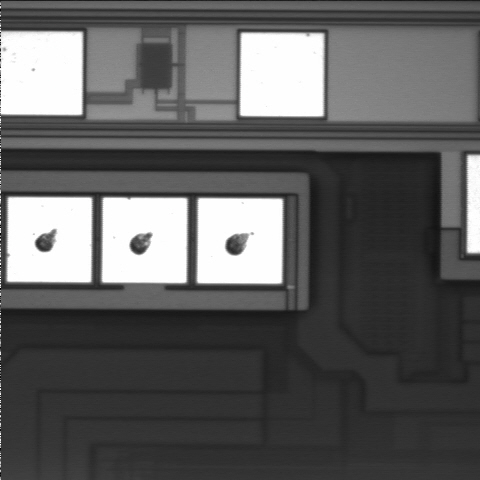pad: (197, 198, 283, 284), (7, 197, 92, 282), (102, 198, 187, 283), (240, 33, 324, 116)
